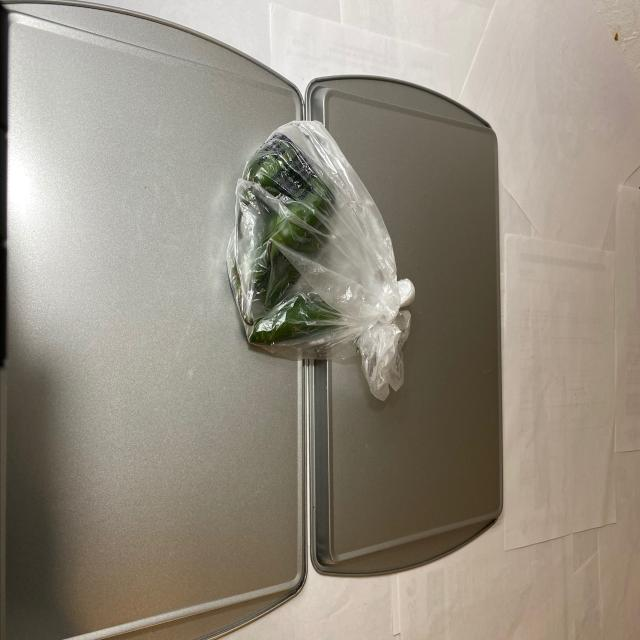chilli: (234, 111, 409, 408)
